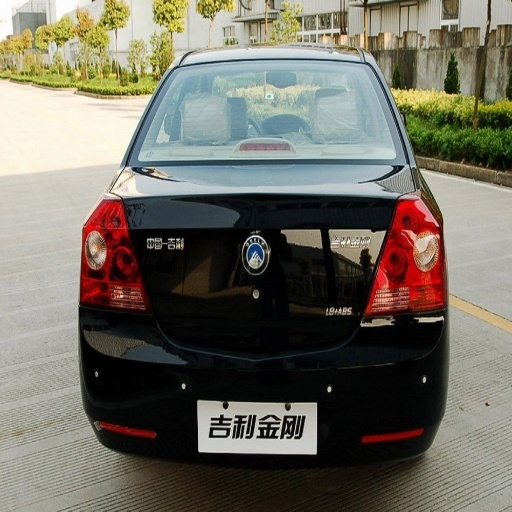back_bumper: (83, 309, 447, 456)
tailgate: (118, 145, 414, 340)
